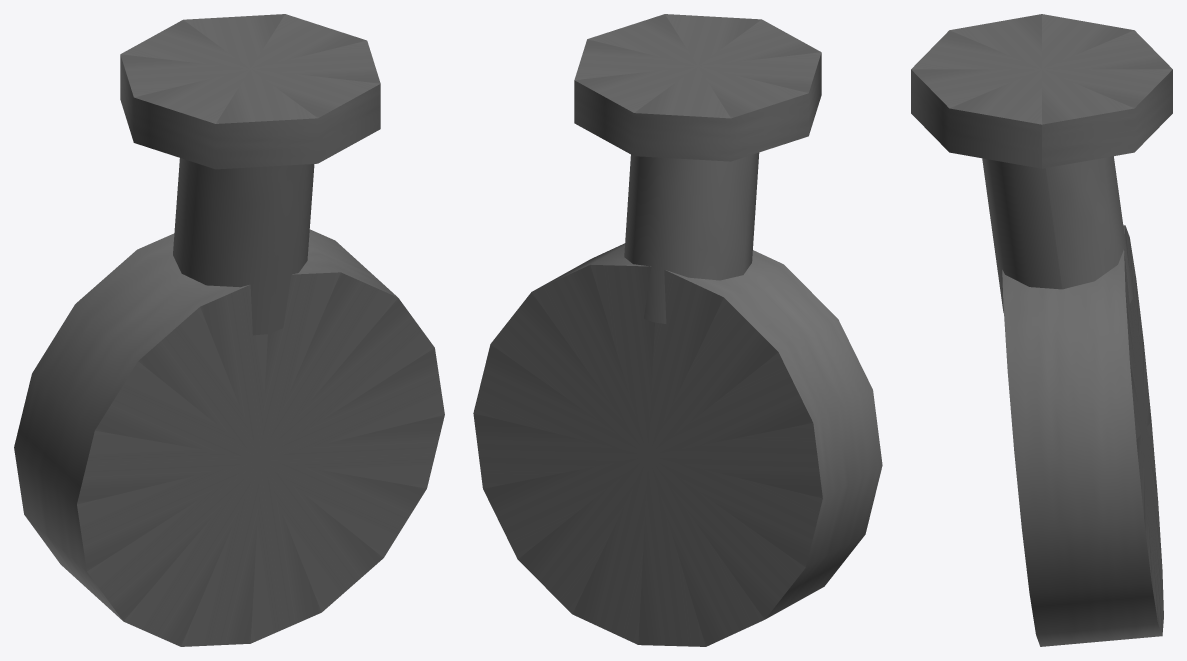
Rendered from mastarmcurve_10x2_c9_up.obj.
3 views of the same model, side by side, from view 1: azimuth 30°, elevation 25°; view 2: azimuth 150°, elevation 25°; view 3: azimuth 270°, elevation 25° (orthographic). The views are drawn at different scales.
Parts seen in each view (by area): view 1: mastarm_10x2_c9_up; view 2: mastarm_10x2_c9_up; view 3: mastarm_10x2_c9_up.
Part boxes in pixels (x1,y1,x2,y2): mastarm_10x2_c9_up: (14, 14, 444, 646); mastarm_10x2_c9_up: (473, 14, 882, 646); mastarm_10x2_c9_up: (911, 14, 1172, 646).
Size of the model in its own units: 0.6308 by 0.9412 by 0.4.
